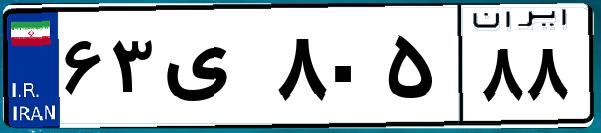0: (330, 28, 385, 110)
3: (110, 28, 158, 98)
5: (385, 28, 445, 110)
6: (57, 26, 110, 100)
8: (270, 28, 330, 110), (475, 38, 525, 113), (525, 38, 570, 115)
ی: (158, 20, 270, 120)
